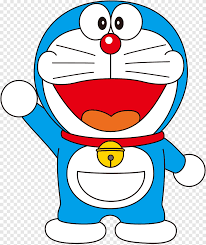doraemon: (1, 1, 206, 245)
